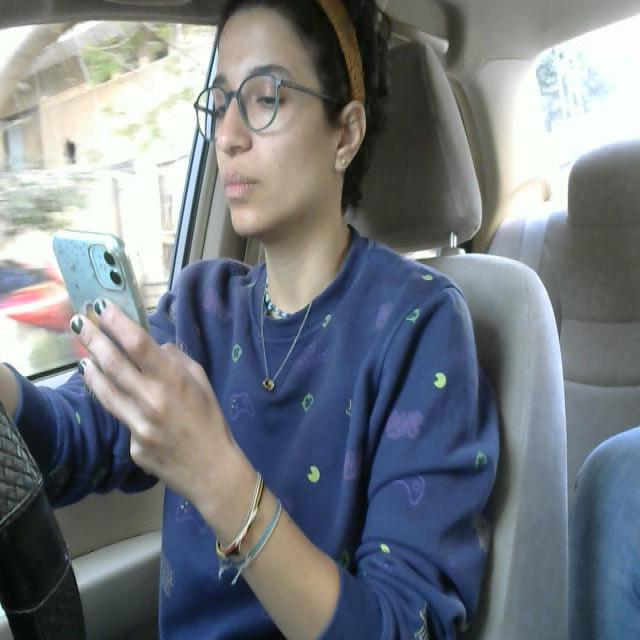mobile use: (46, 220, 154, 392)
